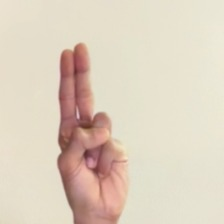U: (45, 30, 141, 224)
